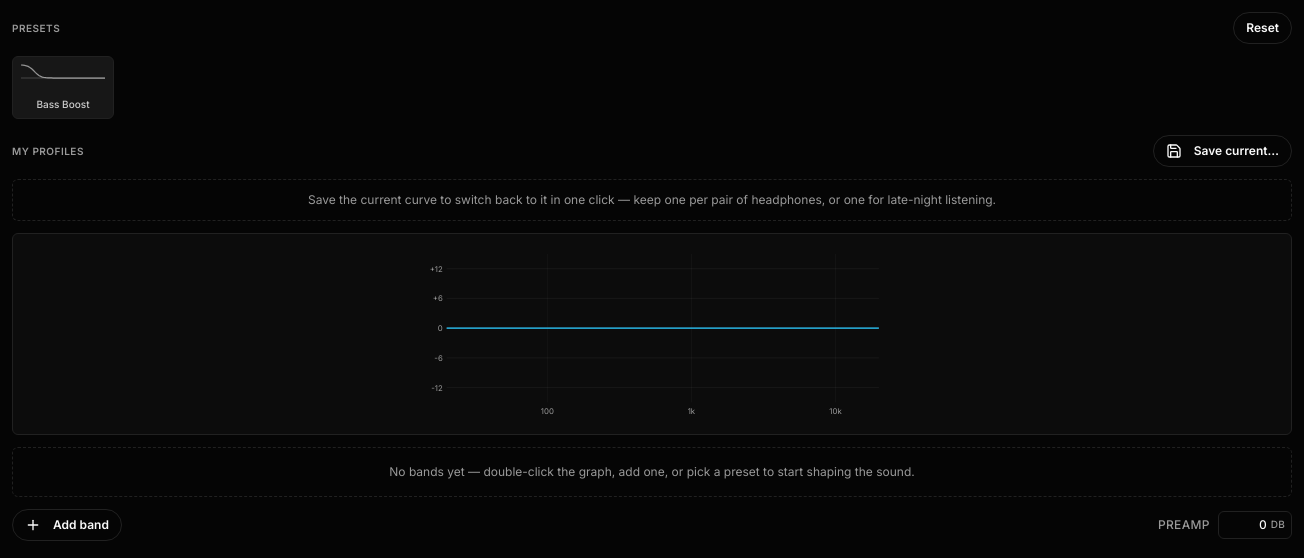
Test: ParametricEqEditor › applies a preset's bands when a preset card is clicked
Click the button "Bass Boost" at (63, 88), box [12,56,114,119]
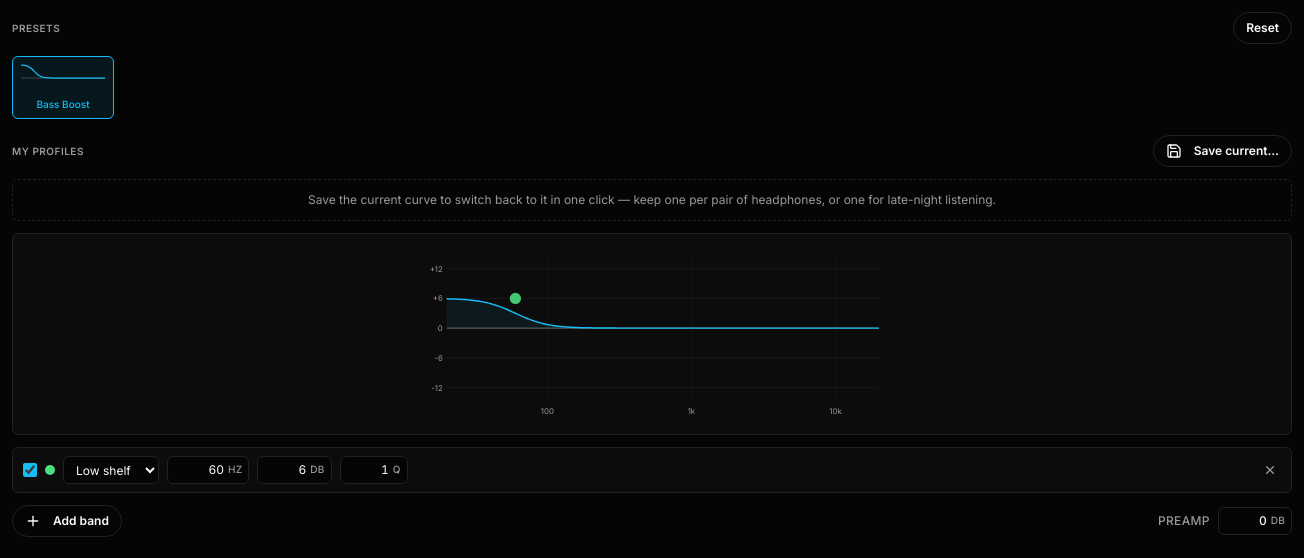
Result: the number of dropdowns is 1 at [63,456,159,484]
